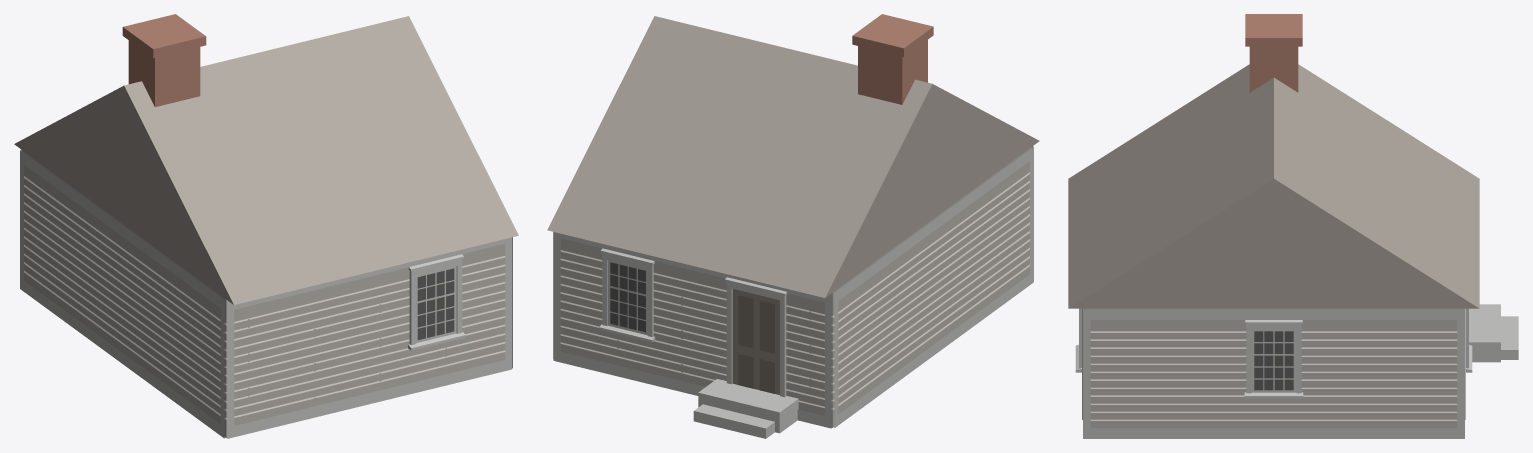
Rendered from recon_1835_blk_indiana_north_wolcott_d3_02__inferred_1835.glb.
3 renders of one model, left to right at view 1: azimuth 30°, elevation 25°; view 2: azimuth 150°, elevation 25°; view 3: azimuth 270°, elevation 25°, orthographic. The views are drawn at different scales.
Parts seen in each view (by area): view 1: recon_1835_blk_indiana_north_wolcott_d3_02__inferred_1835; view 2: recon_1835_blk_indiana_north_wolcott_d3_02__inferred_1835; view 3: recon_1835_blk_indiana_north_wolcott_d3_02__inferred_1835.
Part boxes in pixels (<box>): recon_1835_blk_indiana_north_wolcott_d3_02__inferred_1835: <box>14,14,518,438</box>; recon_1835_blk_indiana_north_wolcott_d3_02__inferred_1835: <box>547,14,1039,438</box>; recon_1835_blk_indiana_north_wolcott_d3_02__inferred_1835: <box>1068,14,1518,438</box>.
Size of the model in its own units: 5.44 by 5.7 by 7.73.
